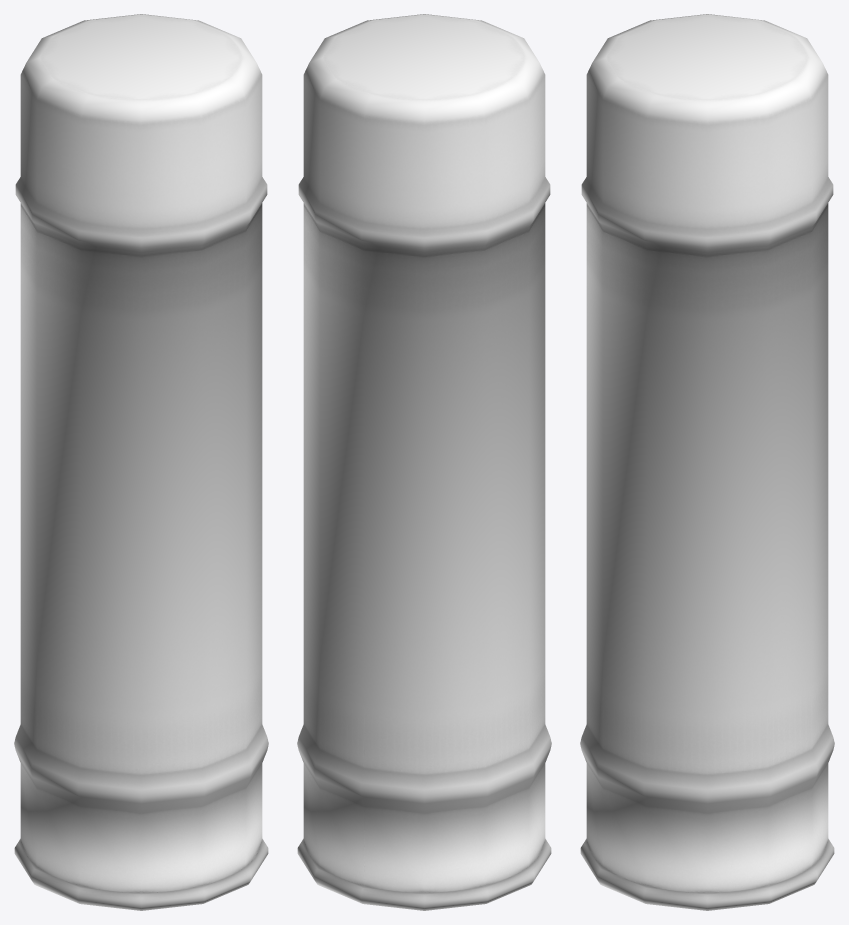
The model's file is 136_a_map_case_lp.fbx.
3 views of the same model, side by side, from view 1: azimuth 30°, elevation 25°; view 2: azimuth 150°, elevation 25°; view 3: azimuth 270°, elevation 25° (orthographic).
Parts seen in each view (by area): view 1: 136_a_map_case; view 2: 136_a_map_case; view 3: 136_a_map_case.
Boxes of the visible parts, left/top/right/bottom form: 136_a_map_case: left=14, top=14, right=268, bottom=910; 136_a_map_case: left=297, top=14, right=551, bottom=910; 136_a_map_case: left=580, top=14, right=834, bottom=910.
Bounding box in the file's own units: 8.25 × 28.62 × 8.25.
